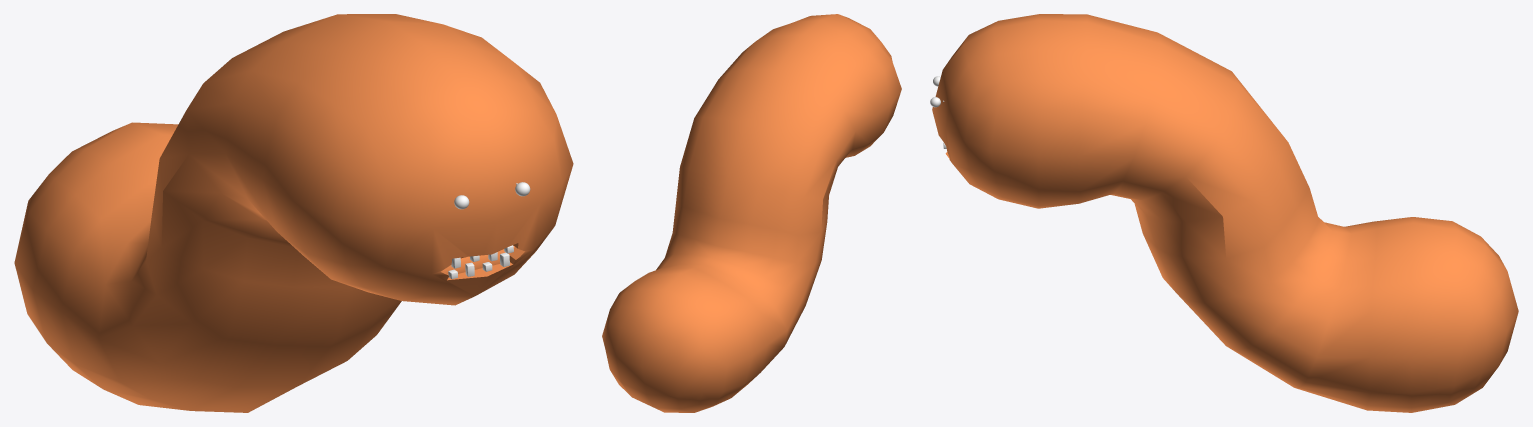
The model's file is Player1.obj.
3 renders of one model, left to right at view 1: azimuth 30°, elevation 25°; view 2: azimuth 150°, elevation 25°; view 3: azimuth 270°, elevation 25°, orthographic. The views are drawn at different scales.
Parts seen in each view (by area): view 1: Bottom.1, Mouth; view 2: Bottom.1; view 3: Bottom.1.
Part boxes in pixels (x1,y1,x2,y2): Bottom.1: (14, 14, 573, 412); Mouth: (441, 243, 524, 280); Bottom.1: (602, 14, 901, 412); Bottom.1: (932, 14, 1518, 412).
Bounding box in the file's own units: 17.31 × 33.34 × 46.48.
